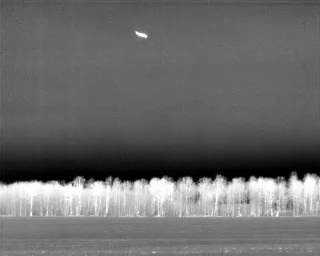DRONE: (131, 26, 151, 43)
